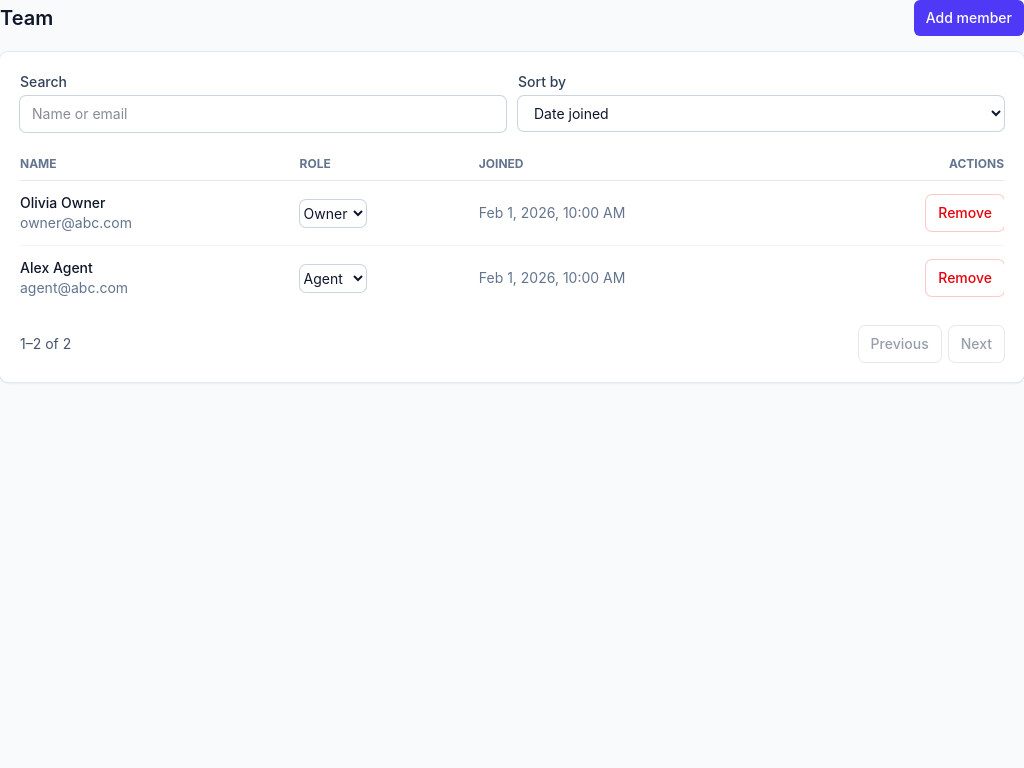
Test: TeamView › explains what is missing when the email has no account yet
Check: the text "Alex Agent" is shown, box 20,259 -> 93,276
Click the button "Add member": point(969, 18) 914,0 -> 1023,36
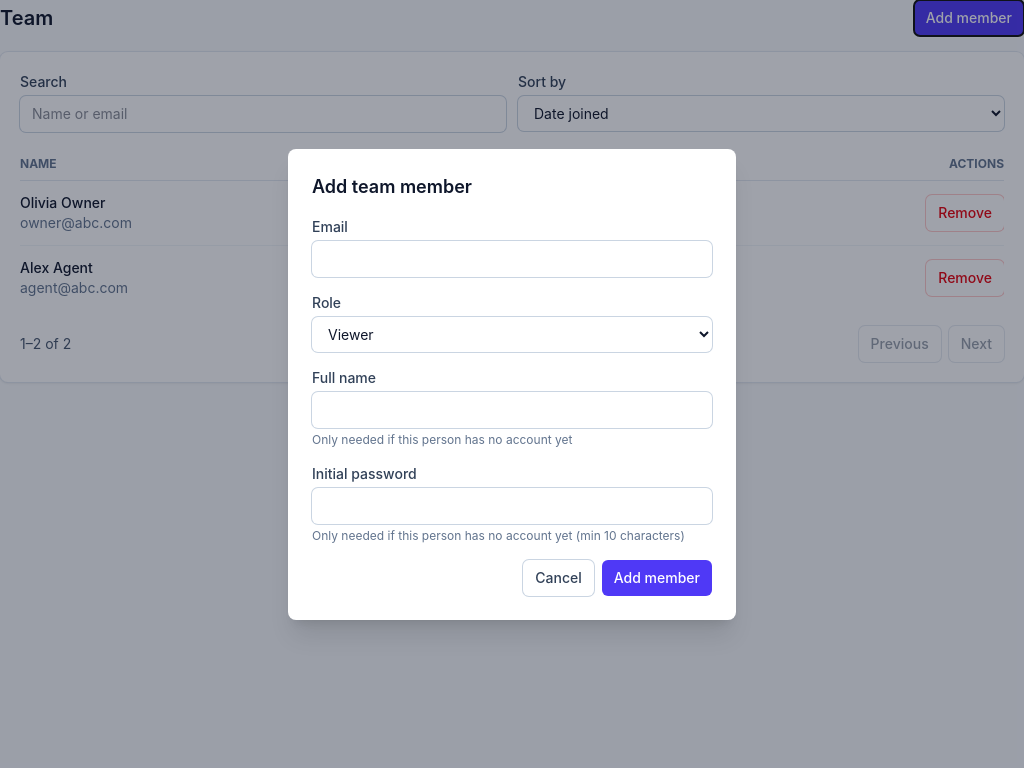
In the field labelled "Email": point(512, 258) 312,240 -> 712,276, type "unknown@abc.com"
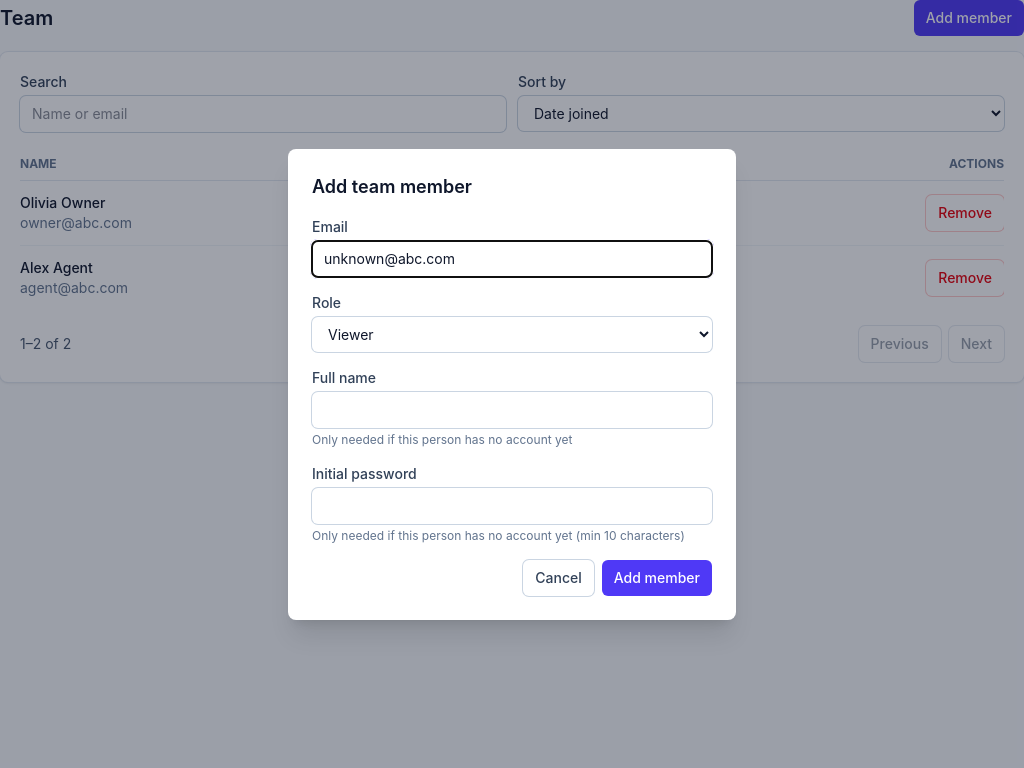
Click the button "Add member": point(657, 578) 602,560 -> 712,596
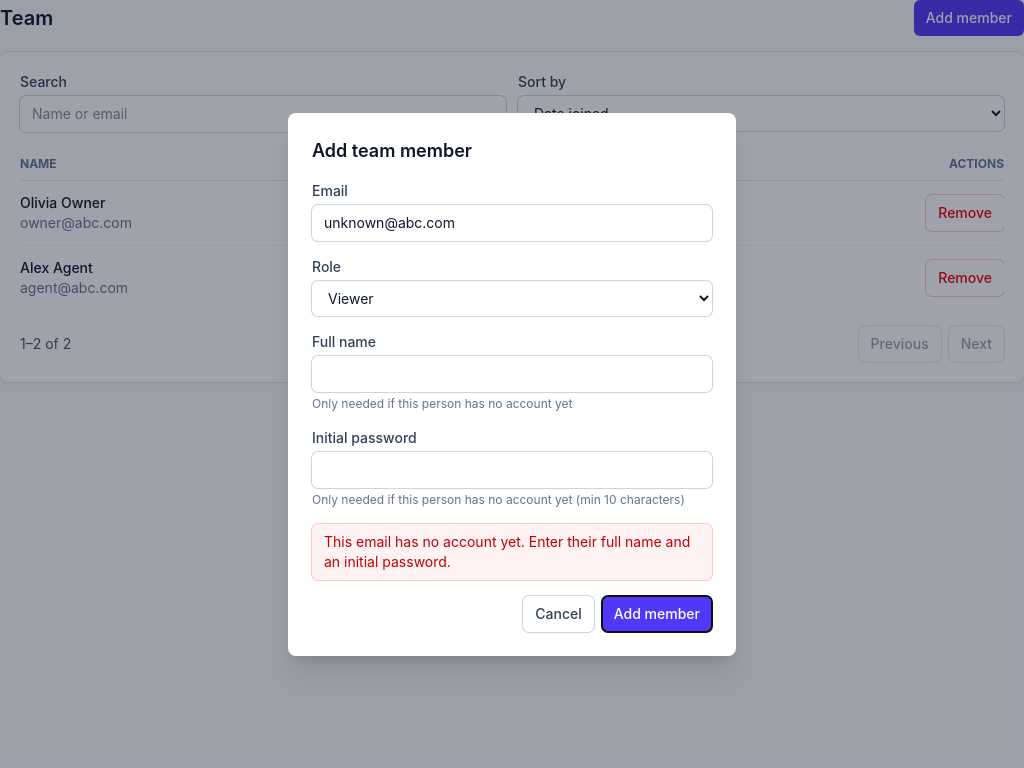
Check: the message shows "has no account yet", box 324,532 -> 690,570
